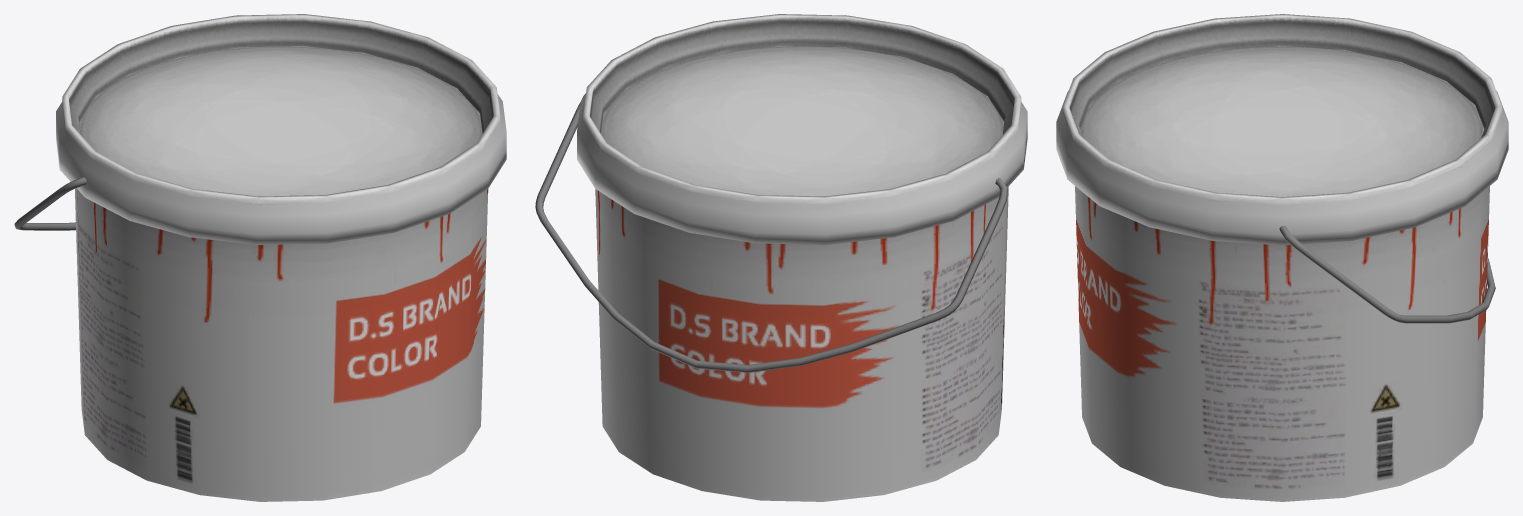
File: paintbucket_orange.dae
3 renders of one model, left to right at view 1: azimuth 30°, elevation 25°; view 2: azimuth 150°, elevation 25°; view 3: azimuth 270°, elevation 25°, orthographic.
Parts seen in each view (by area): view 1: pCylinder1, polySurface1; view 2: pCylinder1, polySurface1; view 3: pCylinder1, polySurface1.
Part boxes in pixels (x1,y1,x2,y2): pCylinder1: [56, 14, 506, 501]; polySurface1: [14, 177, 86, 230]; pCylinder1: [577, 14, 1027, 501]; polySurface1: [535, 93, 1007, 372]; pCylinder1: [1056, 14, 1508, 501]; polySurface1: [1279, 226, 1495, 323].
Size of the model in its own units: 0.7139 by 0.5007 by 0.661.
Materials: 1 (1 with a texture image).
